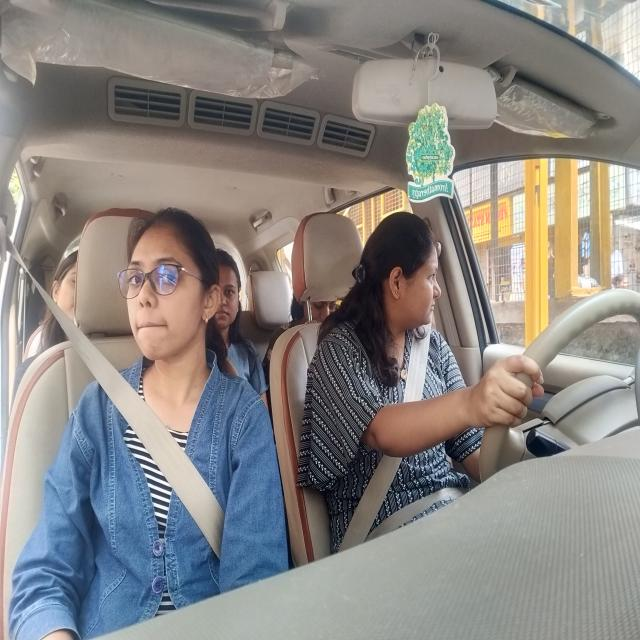LeftRight: (359, 192, 452, 390)
person: (118, 205, 223, 376), (41, 240, 87, 342), (218, 246, 246, 339)
